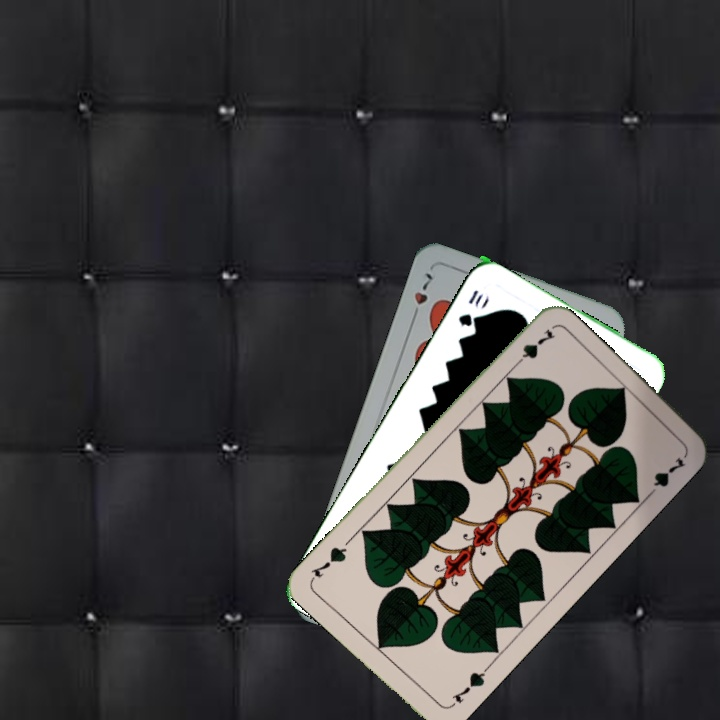G10: (454, 285, 491, 330)
G7: (508, 324, 558, 372), (445, 663, 491, 711)
H7: (407, 268, 439, 324)
